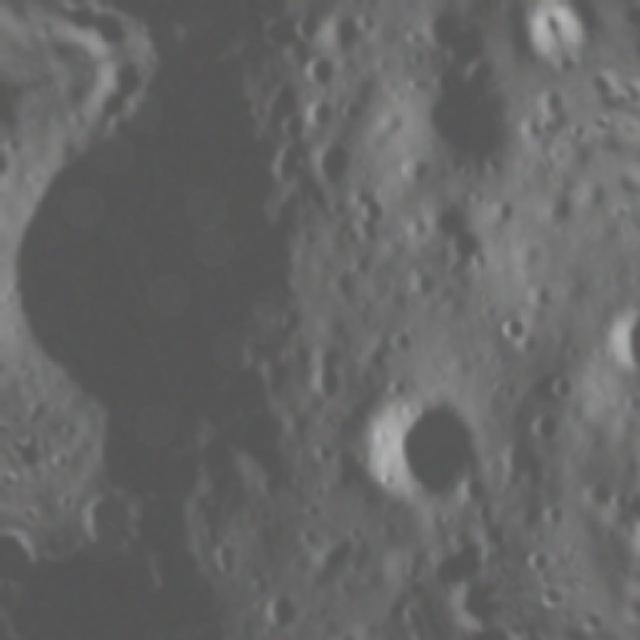crater: (0, 37, 372, 485), (373, 48, 532, 200), (354, 367, 506, 524), (60, 474, 151, 558), (499, 0, 574, 98), (418, 521, 504, 602), (296, 125, 364, 202), (398, 0, 474, 65), (307, 2, 379, 68), (606, 362, 640, 496), (251, 67, 315, 136), (597, 292, 640, 392), (487, 434, 548, 494), (247, 584, 307, 640), (520, 394, 572, 452), (295, 46, 347, 103), (491, 310, 534, 352), (544, 366, 584, 408), (0, 134, 25, 201), (620, 484, 640, 547), (468, 0, 529, 12)
